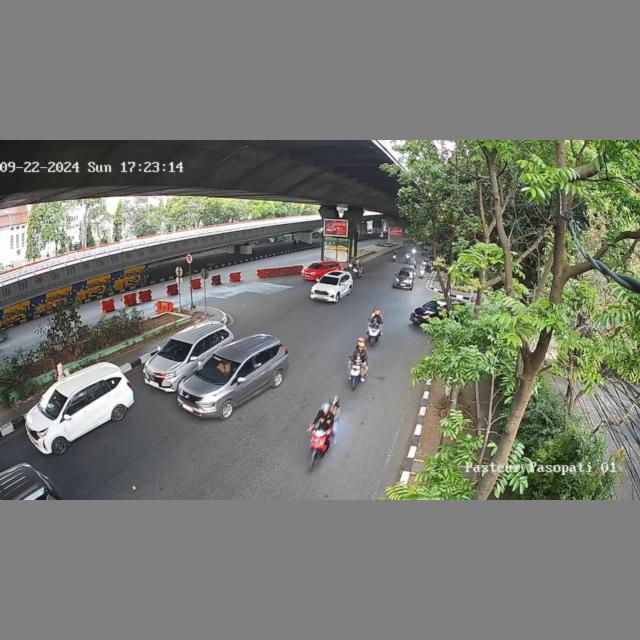windshield: (199, 357, 243, 384), (35, 387, 70, 412), (156, 339, 191, 360), (319, 277, 340, 285)
